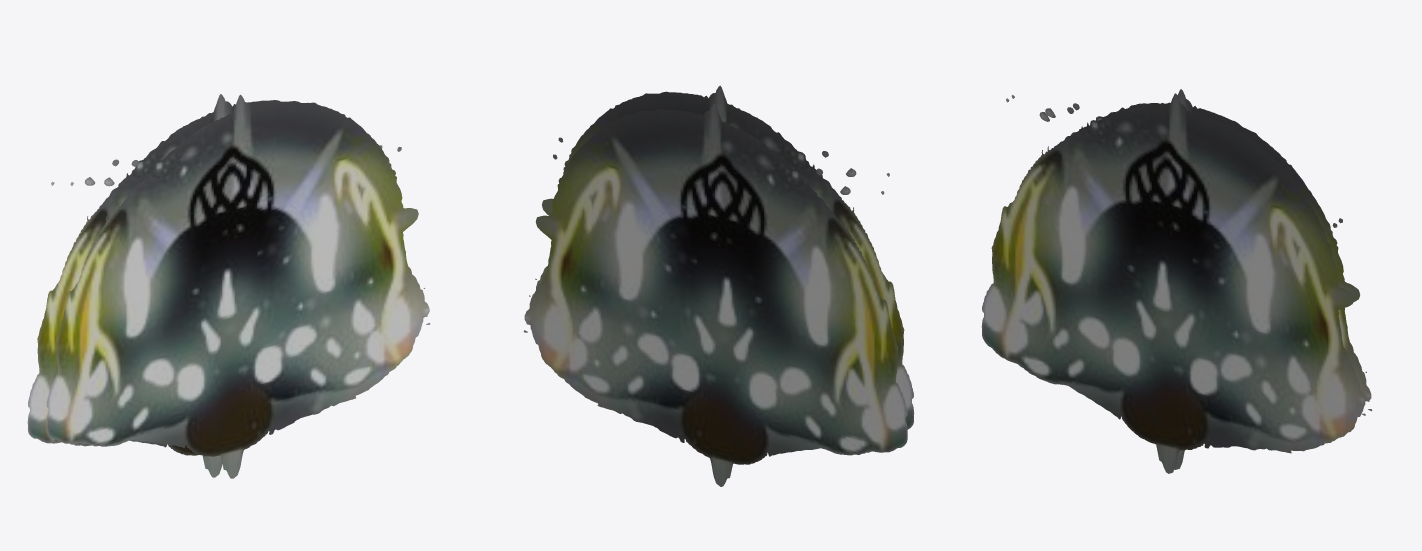
File: SM_KingsCrown.fbx
3 renders of one model, left to right at view 1: azimuth 30°, elevation 25°; view 2: azimuth 150°, elevation 25°; view 3: azimuth 330°, elevation 25°, orthographic.
Visible parts, largest first — view 1: SM_KingsCrown; view 2: SM_KingsCrown; view 3: SM_KingsCrown.
Part boxes in pixels (x1=…): SM_KingsCrown: x1=27, y1=94, x2=430, y2=478; SM_KingsCrown: x1=523, y1=85, x2=914, y2=486; SM_KingsCrown: x1=981, y1=89, x2=1372, y2=473.
Size of the model in its own units: 0.7877 by 0.7976 by 0.0395.
